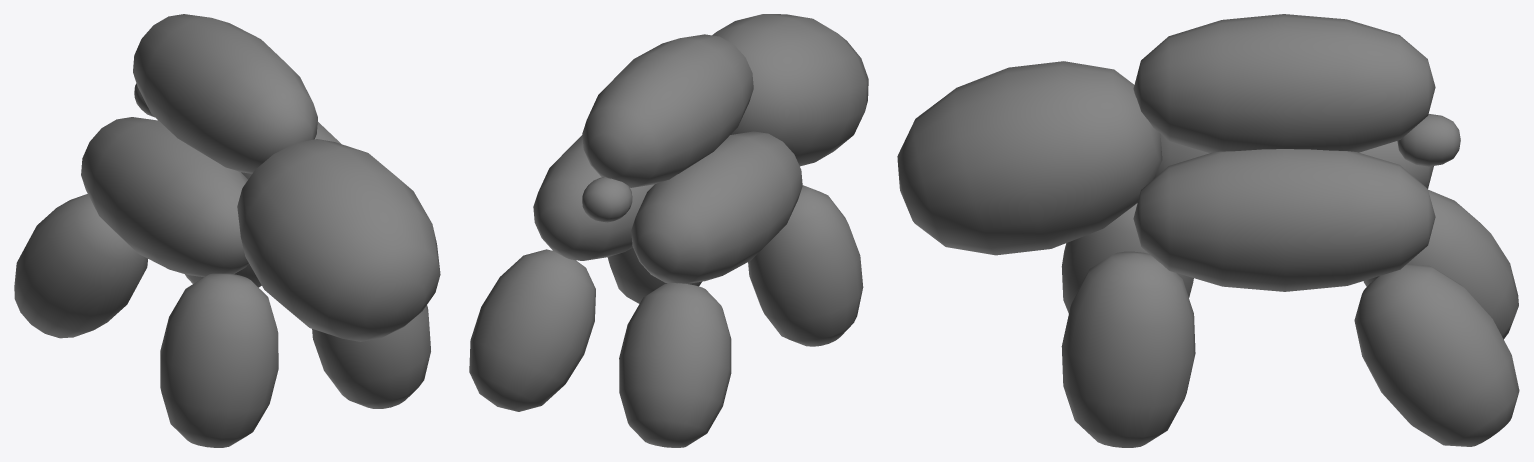
File: balloonHippo.fbx
3 views of the same model, side by side, from view 1: azimuth 30°, elevation 25°; view 2: azimuth 150°, elevation 25°; view 3: azimuth 270°, elevation 25° (orthographic). The views are drawn at different scales.
Parts seen in each view (by area): view 1: Sphere.003; view 2: Sphere.003; view 3: Sphere.003.
Part boxes in pixels (<box>): Sphere.003: <box>14,14,440,447</box>; Sphere.003: <box>469,14,868,447</box>; Sphere.003: <box>897,14,1519,447</box>.
Size of the model in its own units: 80.2 by 100 by 150.
